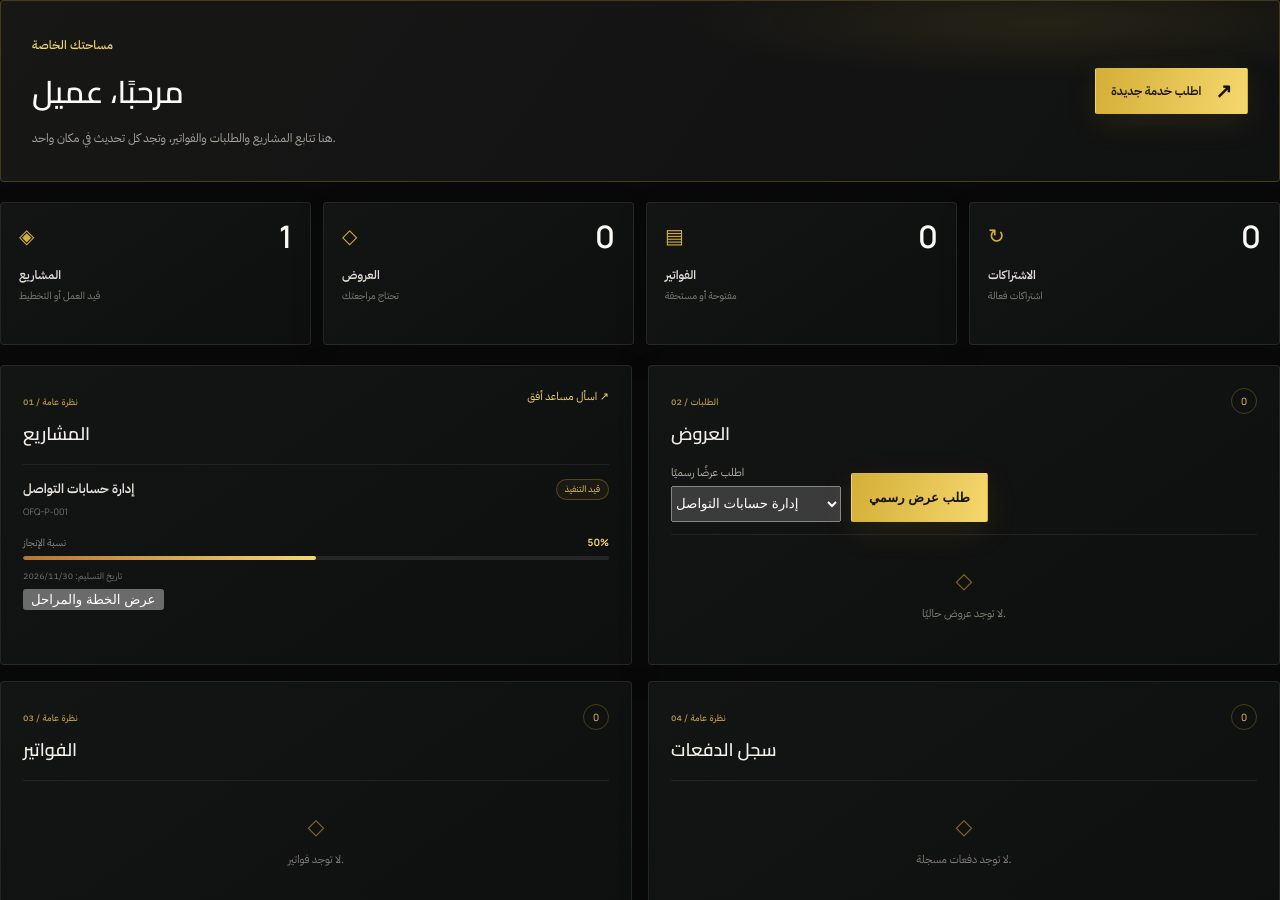
Scenario: the client portal — the project plan › shows the progress and the approved plan from the API
Expected: the text "OFQ-P-001" is shown, [23,505,68,518]
Expected: the text "50%" is shown, [588,535,609,550]
Click the button "عرض الخطة والمراحل": point(93, 599) [23,589,164,610]
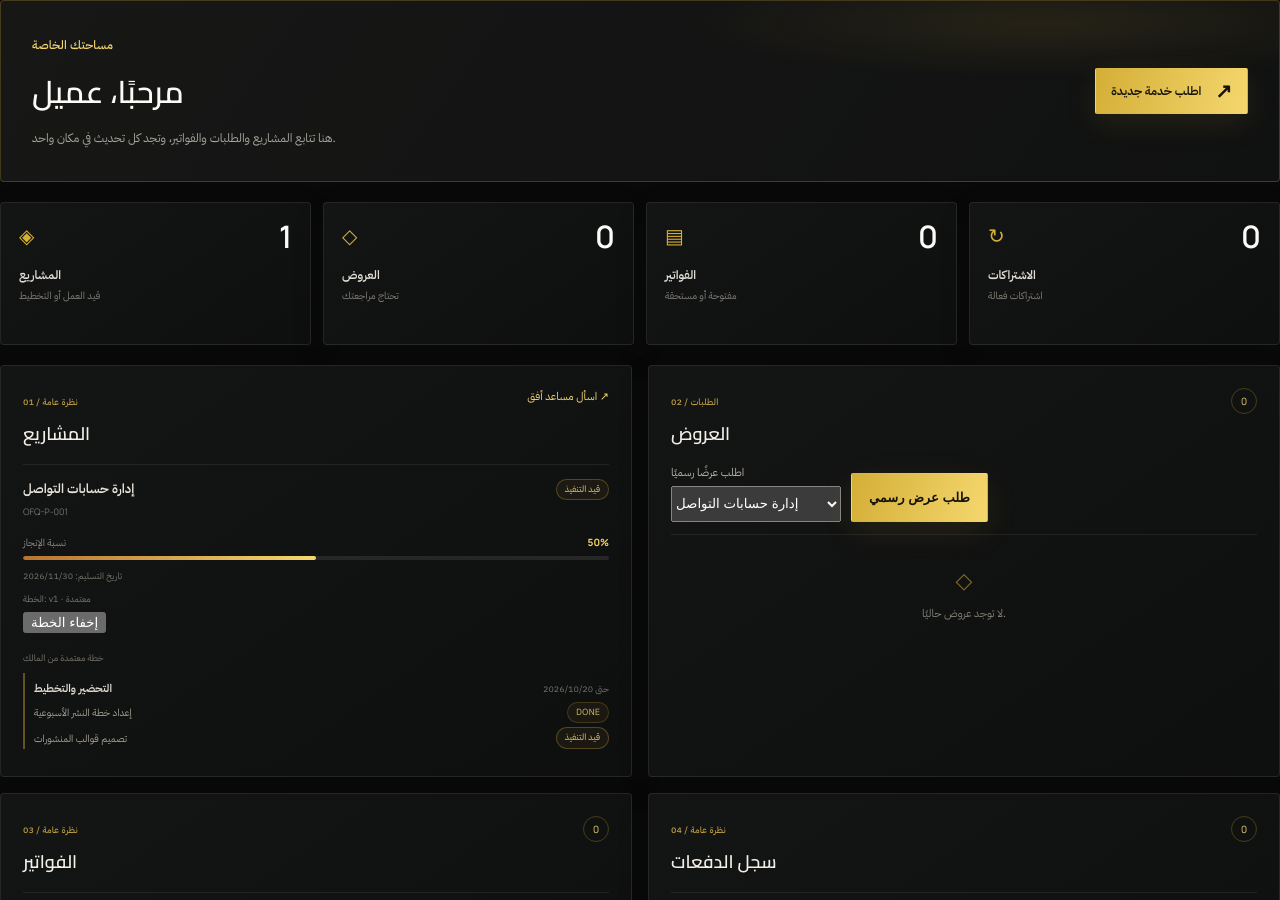
Now the text "التحضير والتخطيط" is shown, box [34,680,112,697]
Now the text "إعداد خطة النشر الأسبوعية" is shown, box [34,705,132,720]
Now the text "خطة معتمدة من المالك" is shown, box [23,651,104,665]
